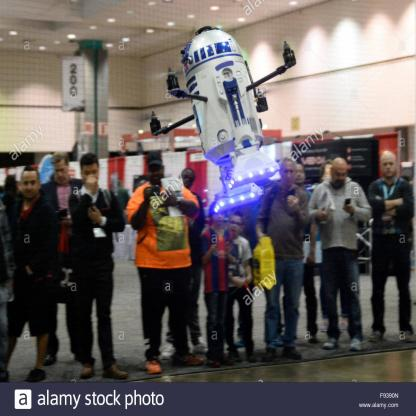drone: (124, 41, 310, 134)
